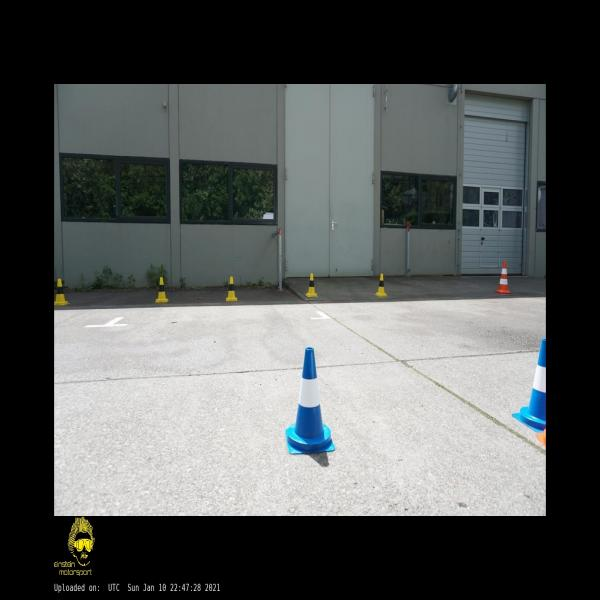blue_cone: (285, 346, 335, 454), (512, 338, 545, 432)
large_orange_cone: (495, 261, 511, 293)
yellow_cone: (54, 278, 69, 305), (154, 276, 168, 302), (225, 276, 238, 301), (305, 272, 318, 297), (374, 273, 388, 296)
